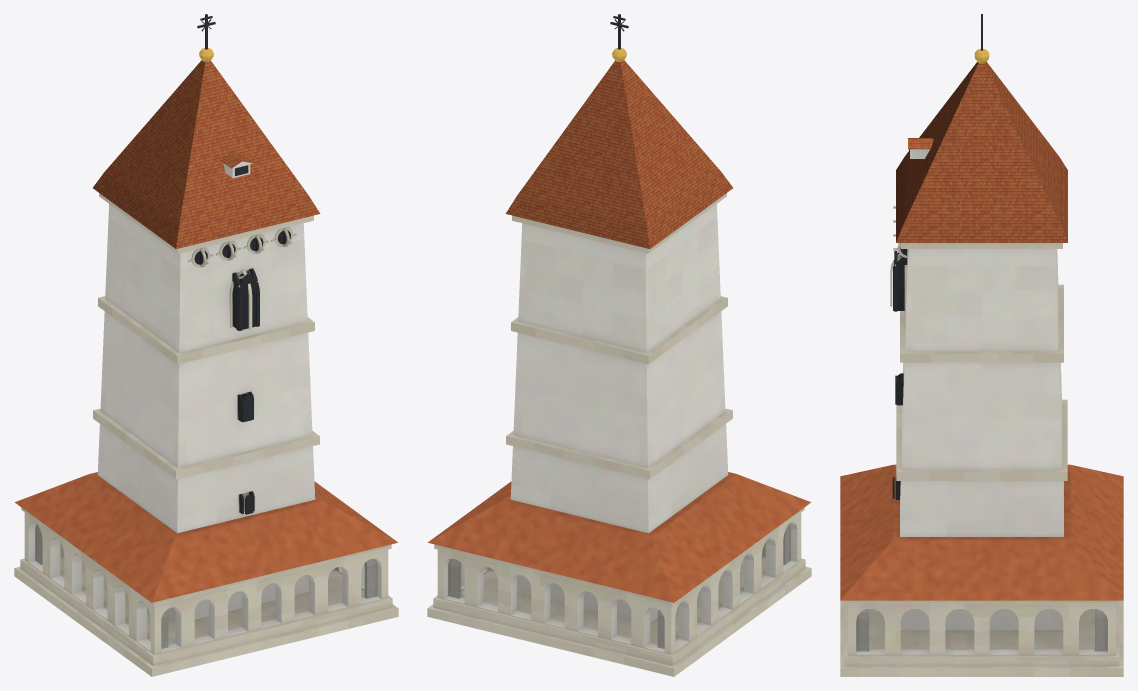
The model's file is urban.glb.
The picture shows the model from 3 angles, left to right: view 1: azimuth 30°, elevation 25°; view 2: azimuth 150°, elevation 25°; view 3: azimuth 270°, elevation 25°; orthographic projection. The views are drawn at different scales.
Parts seen in each view (by area): view 1: urban_LOD0; view 2: urban_LOD0; view 3: urban_LOD0.
Part boxes in pixels (bbox=[...]): urban_LOD0: bbox=[14, 14, 398, 676]; urban_LOD0: bbox=[427, 14, 811, 676]; urban_LOD0: bbox=[840, 14, 1123, 676].
Size of what is drawn, in the model's own units: 16.9 by 38.1 by 16.3.
2 materials, 2 textured.
